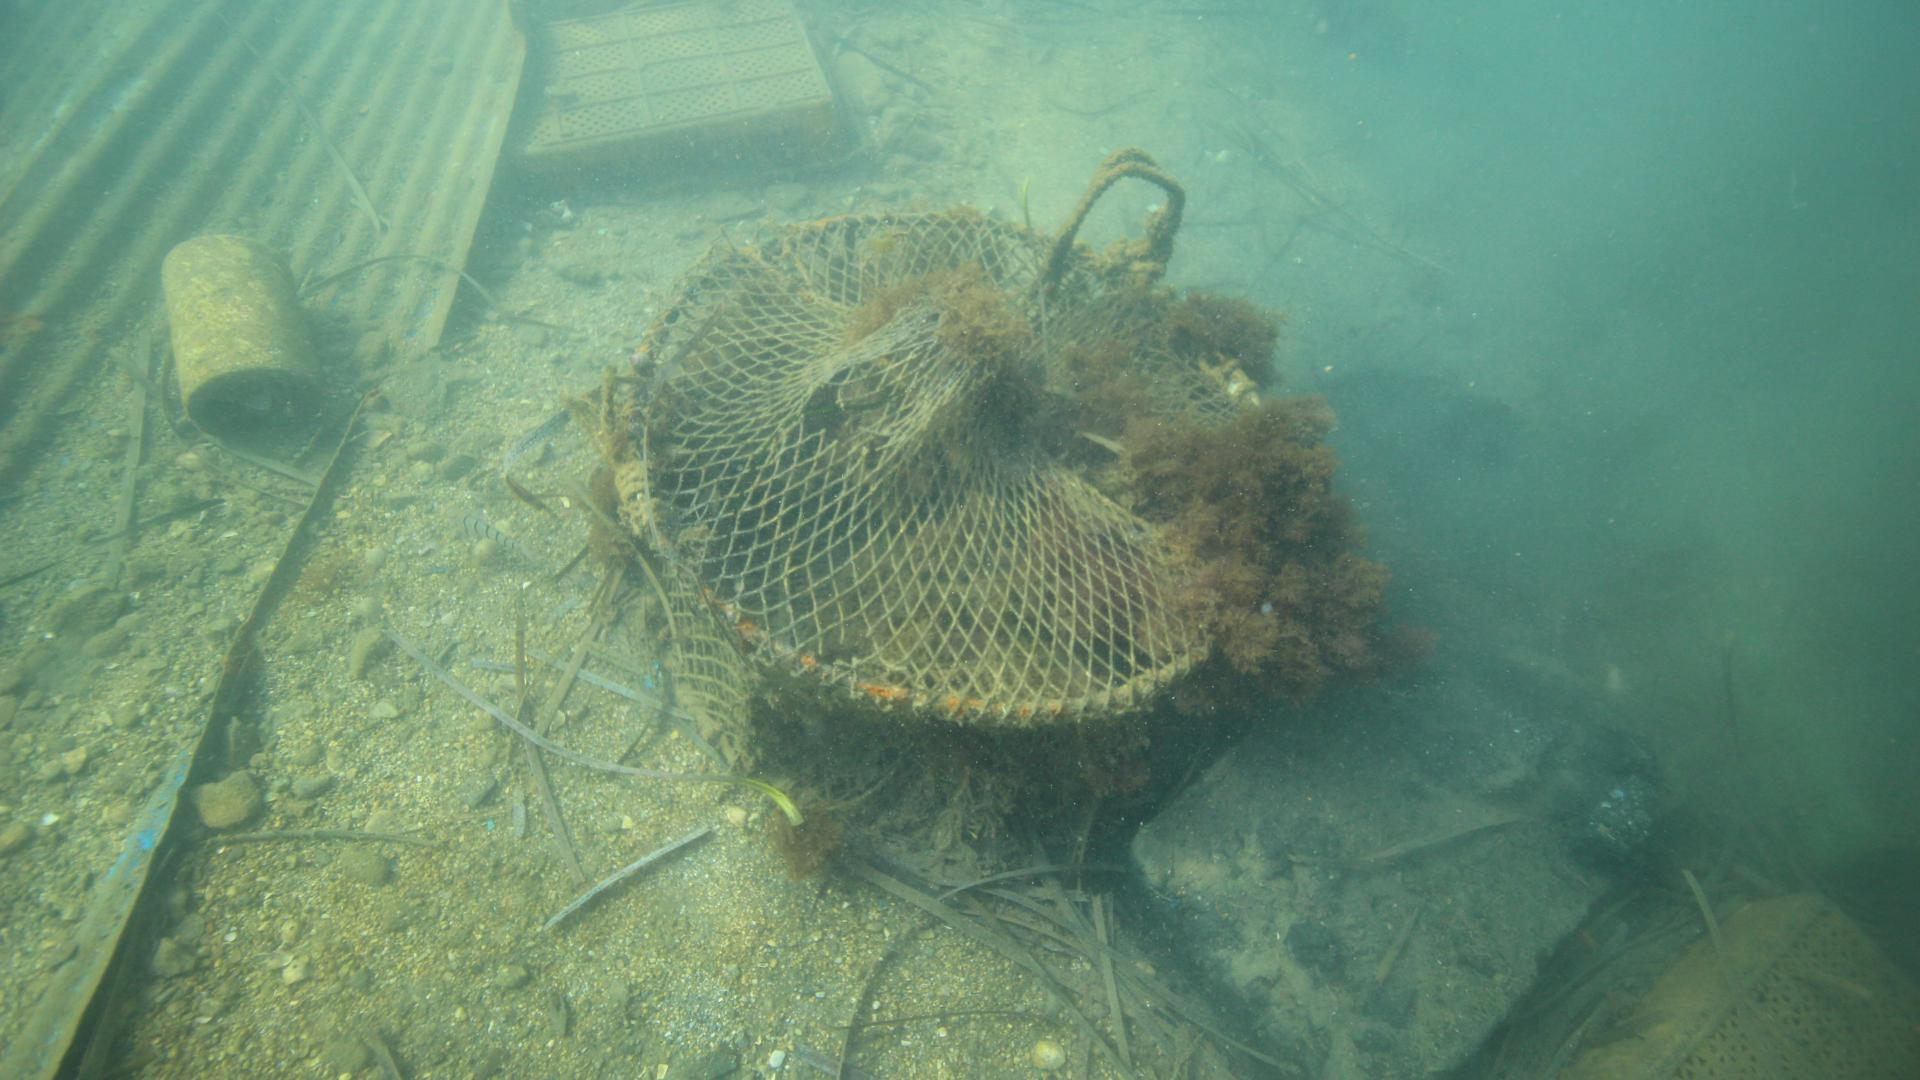bundle of ropes: (1036, 142, 1188, 303)
circular fish trap: (607, 207, 1294, 825)
